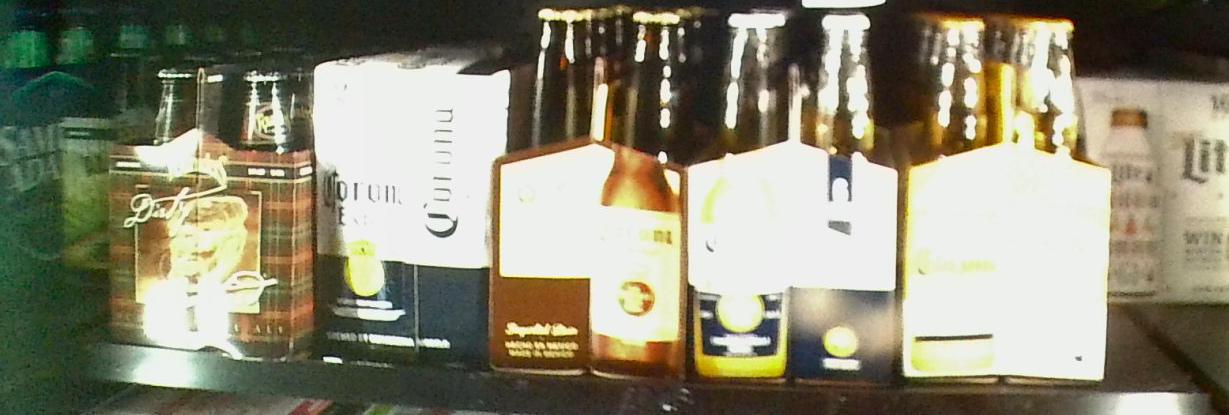bottle: (895, 6, 1107, 388), (687, 3, 890, 379), (501, 5, 683, 377), (105, 68, 309, 347), (314, 62, 486, 367)
